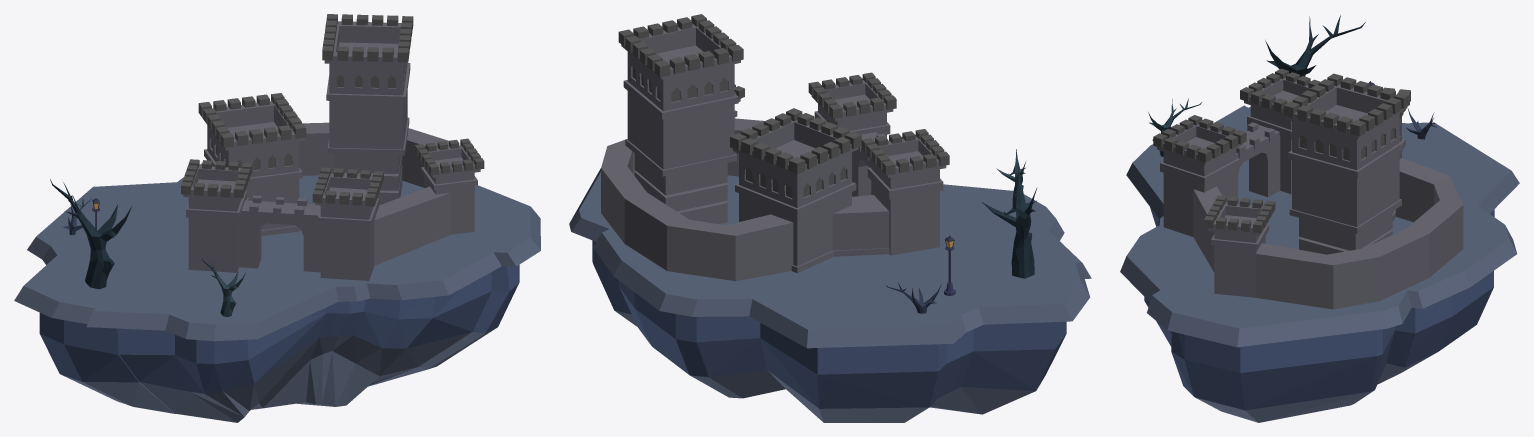
The model's file is Некрополь С домом.fbx.
3 renders of one model, left to right at view 1: azimuth 30°, elevation 25°; view 2: azimuth 150°, elevation 25°; view 3: azimuth 270°, elevation 25°, orthographic. The views are drawn at different scales.
Parts seen in each view (by area): view 1: Cube.034, Cube.046, Cube.041, Cube.040, Cube.042, Circle.010, Circle.011; view 2: Cube.034, Cube.046, Cube.041, Cube.040, Cube.042, Circle.010; view 3: Cube.034, Cube.046, Cube.041, Cube.042, Circle.010.
Part boxes in pixels (x1=…): Cube.034: x1=14, y1=163, x2=540, y2=422; Cube.046: x1=181, y1=122, x2=484, y2=280; Cube.041: x1=324, y1=21, x2=410, y2=205; Cube.040: x1=198, y1=93, x2=306, y2=236; Cube.042: x1=322, y1=14, x2=413, y2=62; Circle.010: x1=50, y1=179, x2=131, y2=289; Circle.011: x1=202, y1=259, x2=245, y2=316; Cube.034: x1=569, y1=168, x2=1091, y2=422; Cube.046: x1=601, y1=72, x2=949, y2=281; Cube.041: x1=621, y1=23, x2=740, y2=224; Cube.040: x1=730, y1=108, x2=889, y2=273; Cube.042: x1=618, y1=14, x2=743, y2=77; Circle.010: x1=982, y1=164, x2=1037, y2=278; Cube.034: x1=1120, y1=105, x2=1519, y2=422; Cube.046: x1=1153, y1=68, x2=1463, y2=309; Cube.041: x1=1285, y1=84, x2=1405, y2=254; Cube.042: x1=1284, y1=73, x2=1409, y2=136; Circle.010: x1=1265, y1=15, x2=1365, y2=76.
Size of the model in its own units: 1045 by 662 by 719.
